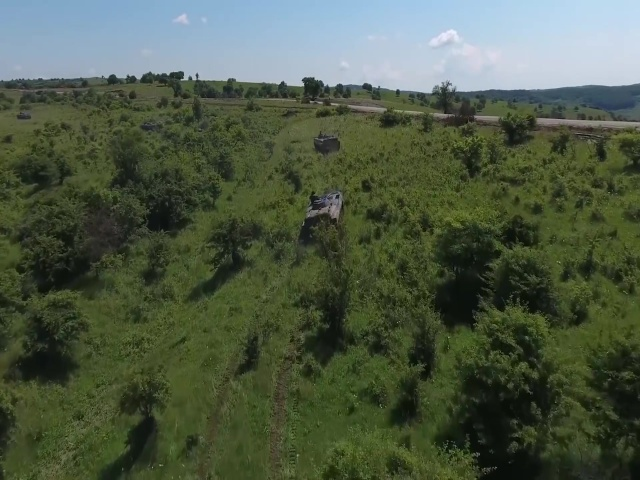vehicle: (300, 189, 345, 241), (313, 132, 342, 153)
